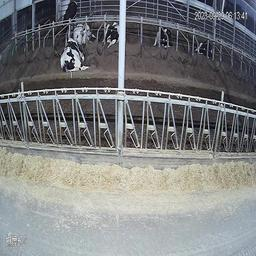cow: (58, 39, 92, 73), (60, 1, 79, 33), (103, 18, 119, 50), (153, 25, 173, 50), (73, 22, 92, 47), (194, 35, 213, 60)
